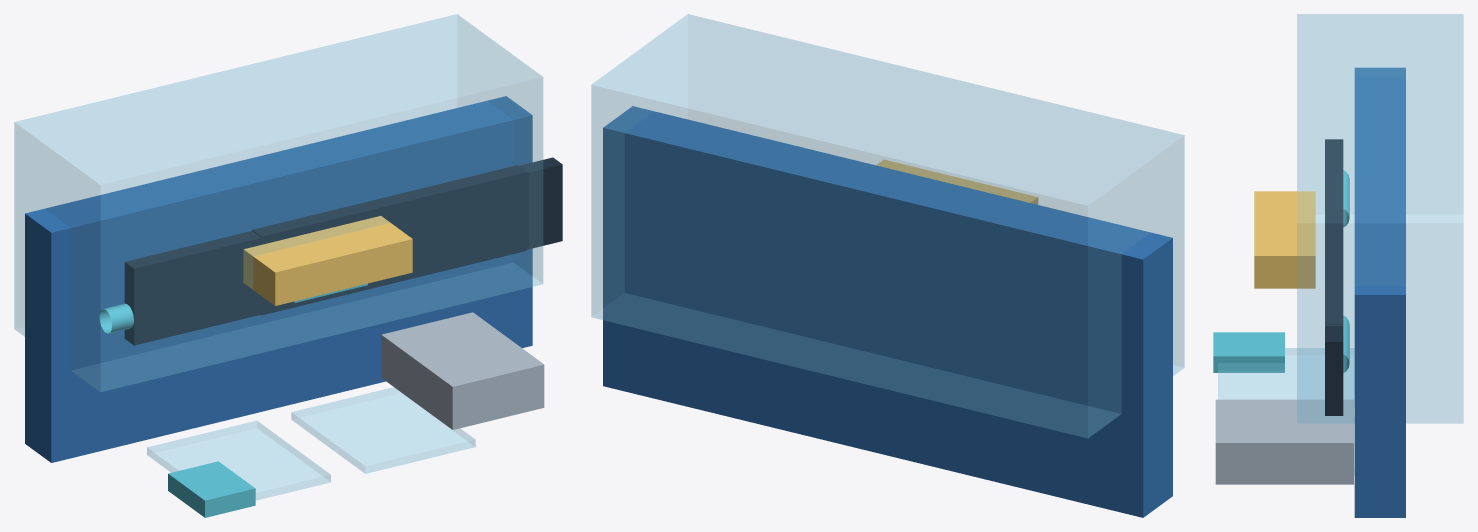
The model's file is header-card-applicator.gltf.
3 views of the same model, side by side, from view 1: azimuth 30°, elevation 25°; view 2: azimuth 150°, elevation 25°; view 3: azimuth 270°, elevation 25° (orthographic). The views are drawn at different scales.
Parts seen in each view (by area): view 1: Machine envelope, Base frame, Main conveyor, Electrical cabinet, Infeed conveyor, Product tooling, Service door B, Service door A, Control panel, Outfeed conveyor, Pneumatic cylinder 1; view 2: Machine envelope, Base frame, Product tooling; view 3: Machine envelope, Base frame, Electrical cabinet, Product tooling, Service door A, Control panel, Main conveyor, Outfeed conveyor, Infeed conveyor, Pneumatic cylinder 1, Pneumatic cylinder 2.
Boxes of the visible parts, x1,y1,x2,y2 form: Machine envelope: (14, 14, 542, 391); Base frame: (25, 96, 532, 462); Main conveyor: (252, 165, 526, 315); Electrical cabinet: (381, 312, 544, 429); Infeed conveyor: (124, 231, 261, 345); Product tooling: (243, 216, 412, 305); Service door B: (291, 387, 475, 473); Service door A: (147, 421, 330, 500); Control panel: (168, 461, 255, 517); Outfeed conveyor: (466, 157, 562, 264); Pneumatic cylinder 1: (99, 303, 133, 333); Machine envelope: (591, 14, 1184, 438); Base frame: (603, 106, 1172, 517); Product tooling: (876, 159, 1038, 204); Machine envelope: (1297, 14, 1463, 423); Base frame: (1354, 67, 1405, 517); Electrical cabinet: (1215, 399, 1353, 484); Product tooling: (1254, 191, 1315, 288); Service door A: (1218, 348, 1354, 406); Control panel: (1213, 332, 1284, 372); Main conveyor: (1325, 198, 1343, 324); Outfeed conveyor: (1325, 324, 1343, 415); Infeed conveyor: (1325, 139, 1343, 198); Pneumatic cylinder 1: (1343, 170, 1349, 227); Pneumatic cylinder 2: (1343, 315, 1349, 372).
Size of the model in its own units: 5.41 by 3.3 by 2.44.
